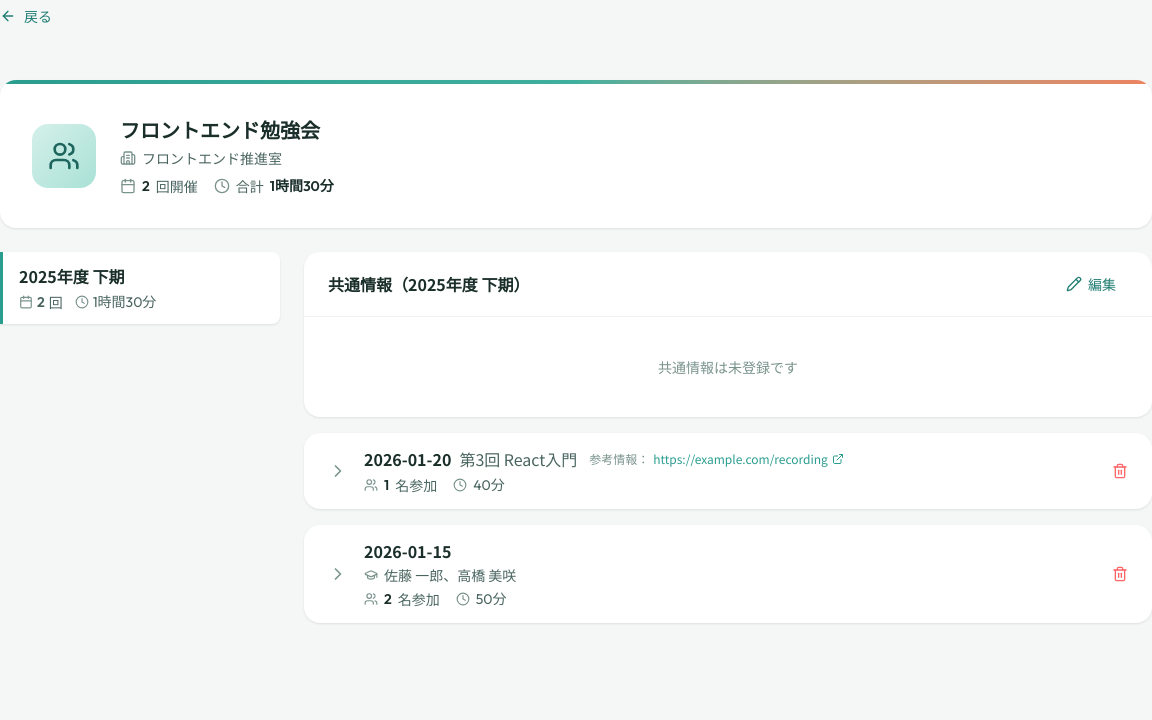
Test: GroupDetailPage › 管理者モード — セッション削除 › キャンセルでダイアログが閉じること
This screenshot has width=1152, height=720.
Expected: the heading "フロントエンド勉強会" is shown, [120,116,334,144]
What coordinates should you click on to do the following:
click the button named "のセッションを削除"
I would click on:
 (1120, 471)
Its box is [1104,455,1136,487].
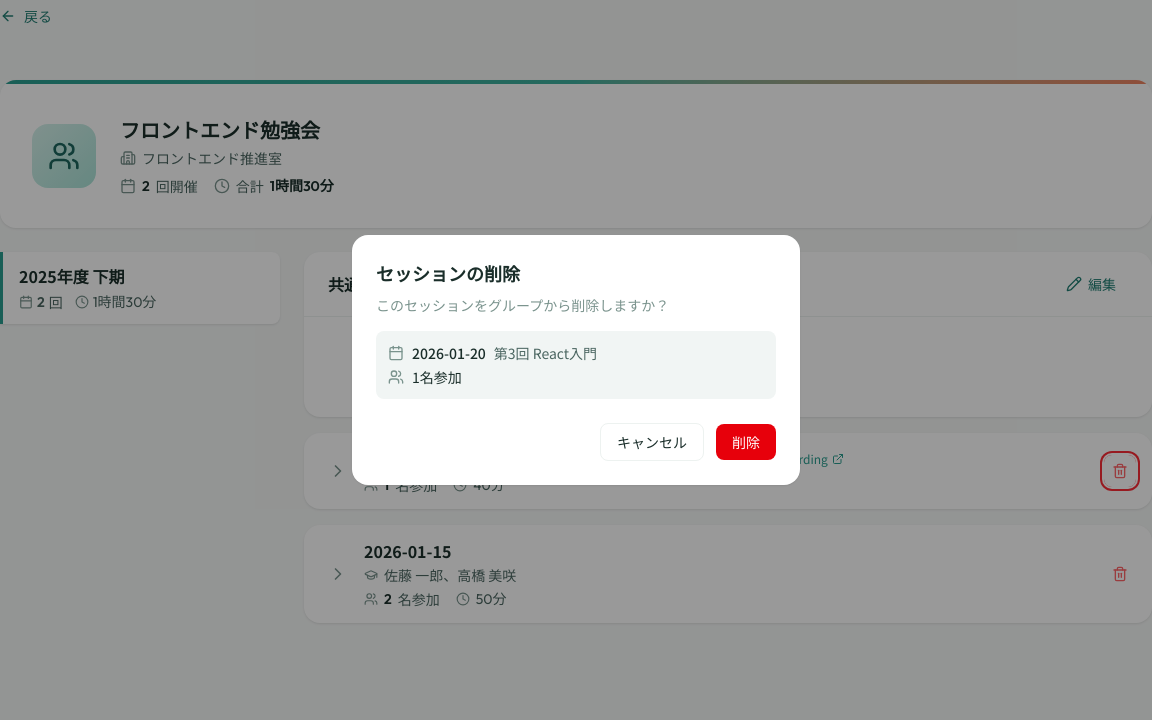
Now the dialog is shown, box [352,235,800,485]
# キャンセルクリック → ダイアログ閉じる
What coordinates should you click on to do the following:
click the button "キャンセル"
I would click on:
 (652, 442)
Its box is [600,423,704,461].
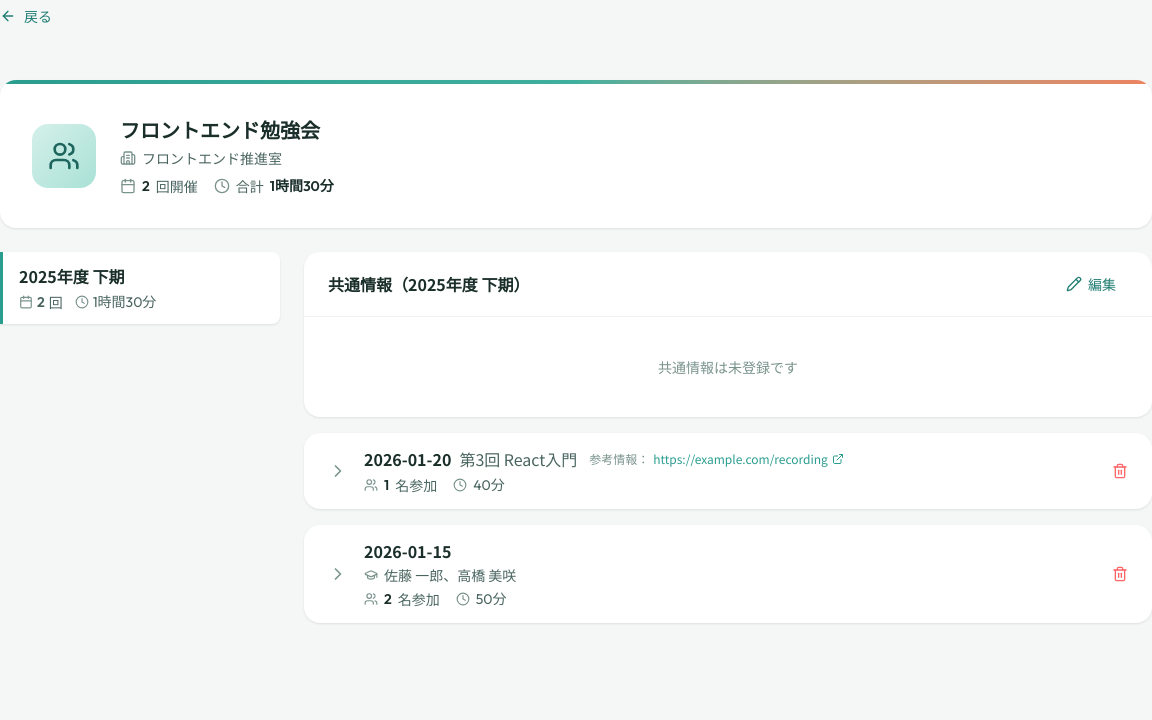
Now the dialog is gone
